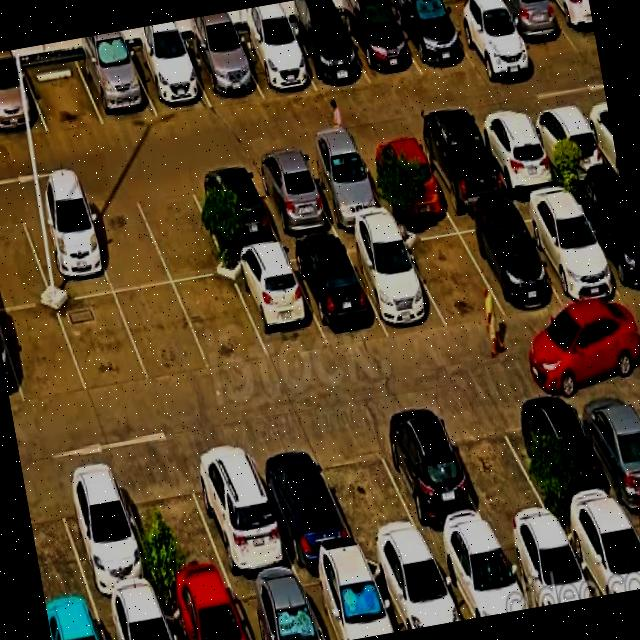empty: (439, 398, 555, 533), (117, 459, 229, 593), (310, 425, 426, 554), (398, 220, 505, 327), (132, 176, 228, 282), (79, 188, 171, 292), (115, 284, 210, 382), (56, 293, 149, 393), (24, 477, 92, 612), (174, 275, 269, 370), (0, 304, 87, 404), (436, 0, 526, 70), (22, 57, 103, 133), (0, 206, 52, 309)
occupied: (371, 410, 493, 546), (183, 441, 295, 580), (51, 467, 159, 603), (247, 436, 358, 568), (514, 386, 623, 520), (512, 192, 622, 302), (453, 209, 560, 315), (228, 248, 328, 361), (285, 238, 387, 346), (341, 229, 446, 333), (17, 197, 113, 301), (569, 378, 640, 507), (412, 125, 509, 212), (188, 165, 281, 255), (431, 535, 528, 620), (496, 524, 594, 608), (569, 184, 640, 297), (365, 550, 461, 632), (297, 559, 394, 640), (247, 156, 337, 242), (299, 147, 390, 230), (357, 136, 449, 217), (473, 112, 562, 195), (526, 103, 613, 184), (337, 2, 422, 84), (560, 509, 640, 596), (387, 0, 474, 75), (228, 573, 324, 640), (285, 14, 369, 90), (75, 49, 157, 125), (127, 43, 211, 116), (233, 27, 316, 98), (184, 35, 262, 107), (160, 583, 250, 640), (490, 0, 576, 58), (95, 595, 176, 640), (0, 66, 48, 141), (546, 0, 597, 49), (47, 606, 105, 640)
